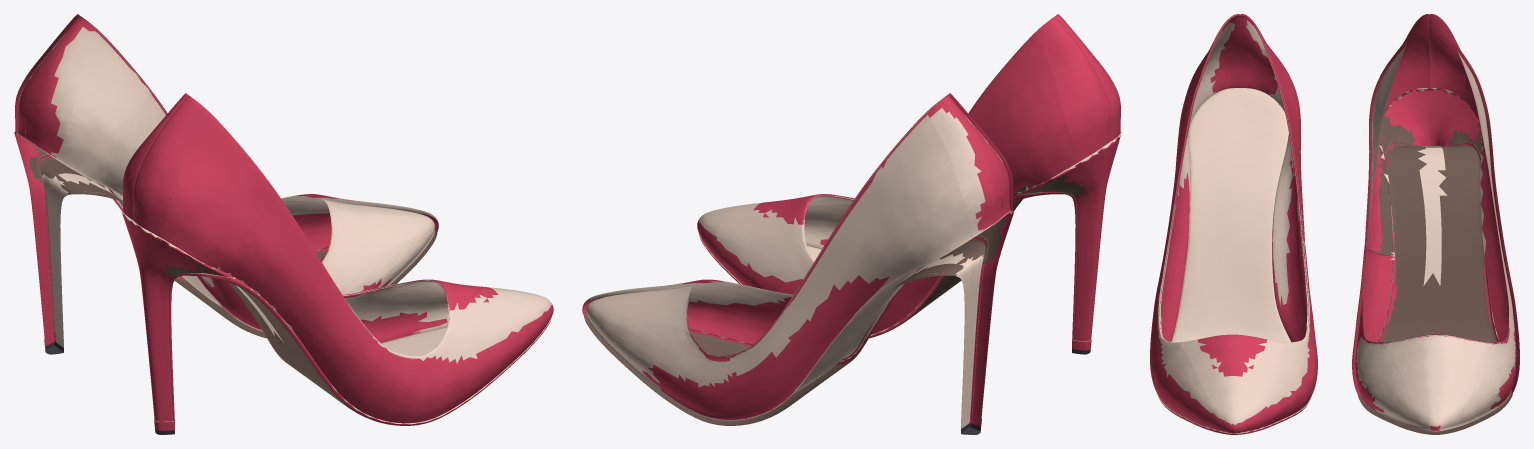
File: pumps-arion.glb
3 views of the same model, side by side, from view 1: azimuth 30°, elevation 25°; view 2: azimuth 150°, elevation 25°; view 3: azimuth 270°, elevation 25° (orthographic). The views are drawn at different scales.
Visible parts, largest first — view 1: 3DSMeshMatrix (×2); view 2: 3DSMeshMatrix (×2); view 3: 3DSMeshMatrix (×2).
Part boxes in pixels (x1,y1,x2,y2): 3DSMeshMatrix (×2): (14,14,553,434); 3DSMeshMatrix (×2): (582,14,1121,434); 3DSMeshMatrix (×2): (1150,14,1519,434).
Size of the model in its own units: 12.08 by 9.47 by 10.57.
